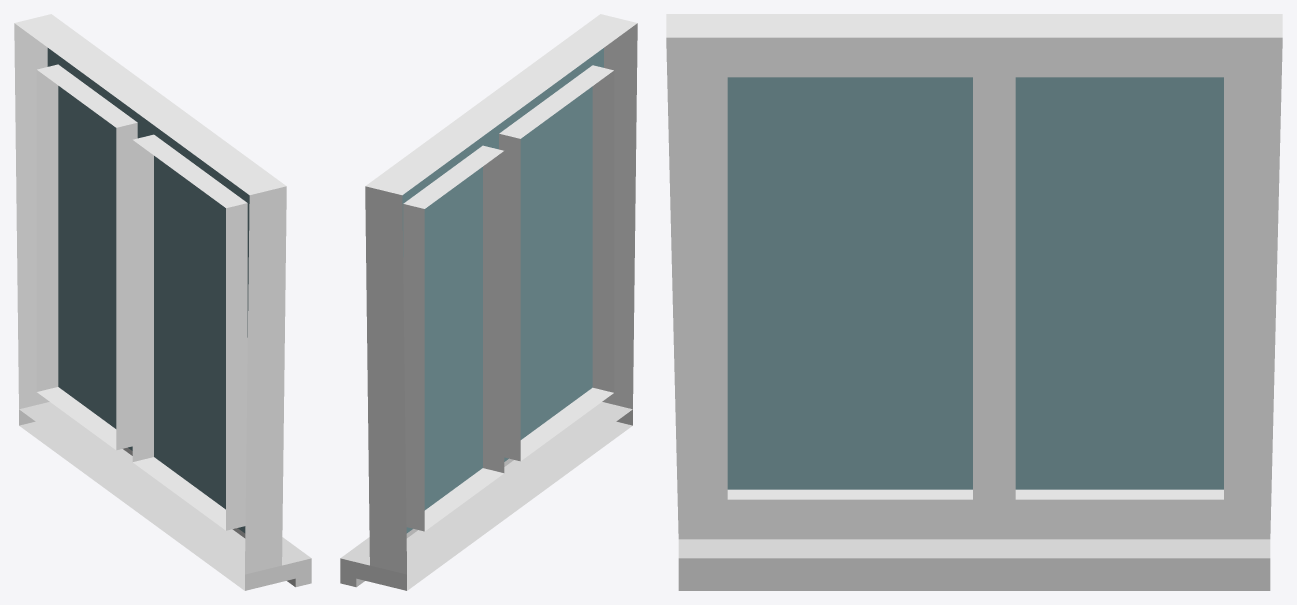
File: Tavern (Window 1).fbx
3 renders of one model, left to right at view 1: azimuth 30°, elevation 25°; view 2: azimuth 150°, elevation 25°; view 3: azimuth 270°, elevation 25°, orthographic. The views are drawn at different scales.
Visible parts, largest first — view 1: Tavern (Window 1); view 2: Tavern (Window 1); view 3: Tavern (Window 1).
Boxes of the visible parts, x1=… form: Tavern (Window 1): x1=14, y1=14, x2=311, y2=590; Tavern (Window 1): x1=340, y1=14, x2=637, y2=590; Tavern (Window 1): x1=666, y1=14, x2=1282, y2=590.
Bounding box in the file's own units: 61.19 × 357 × 373.
